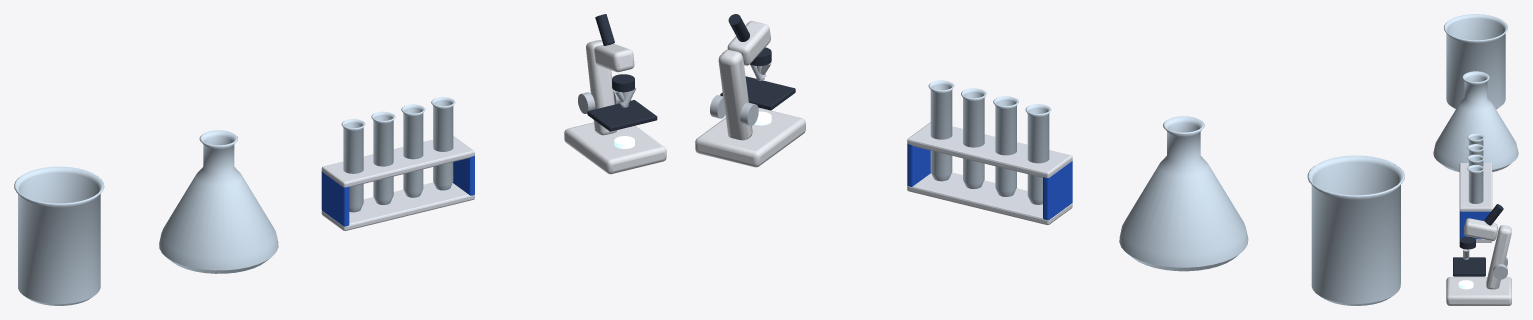
Rendered from lab_glassware.glb.
3 views of the same model, side by side, from view 1: azimuth 30°, elevation 25°; view 2: azimuth 150°, elevation 25°; view 3: azimuth 270°, elevation 25° (orthographic). The views are drawn at different scales.
Visible parts, largest first — view 1: Beaker, Flask, Microscope_Body, TubeRack_Body, TubeRack_Glass; view 2: Beaker, Flask, Microscope_Body, TubeRack_Body, TubeRack_Glass; view 3: Beaker, Flask, Microscope_Body, TubeRack_Body, TubeRack_Glass.
Boxes of the visible parts, bbox=[...] form: Beaker: bbox=[14, 166, 104, 305]; Flask: bbox=[159, 130, 278, 273]; Microscope_Body: bbox=[564, 14, 666, 174]; TubeRack_Body: bbox=[321, 136, 474, 230]; TubeRack_Glass: bbox=[341, 97, 455, 212]; Beaker: bbox=[1307, 155, 1404, 305]; Flask: bbox=[1119, 116, 1248, 271]; Microscope_Body: bbox=[695, 14, 805, 167]; TubeRack_Body: bbox=[907, 122, 1072, 224]; TubeRack_Glass: bbox=[928, 80, 1051, 204]; Beaker: bbox=[1444, 14, 1507, 109]; Flask: bbox=[1433, 71, 1518, 171]; Microscope_Body: bbox=[1446, 204, 1511, 305]; TubeRack_Body: bbox=[1459, 163, 1492, 242]; TubeRack_Glass: bbox=[1467, 133, 1484, 203].
Size of the model in its own units: 3.15 by 0.6182 by 0.52.
